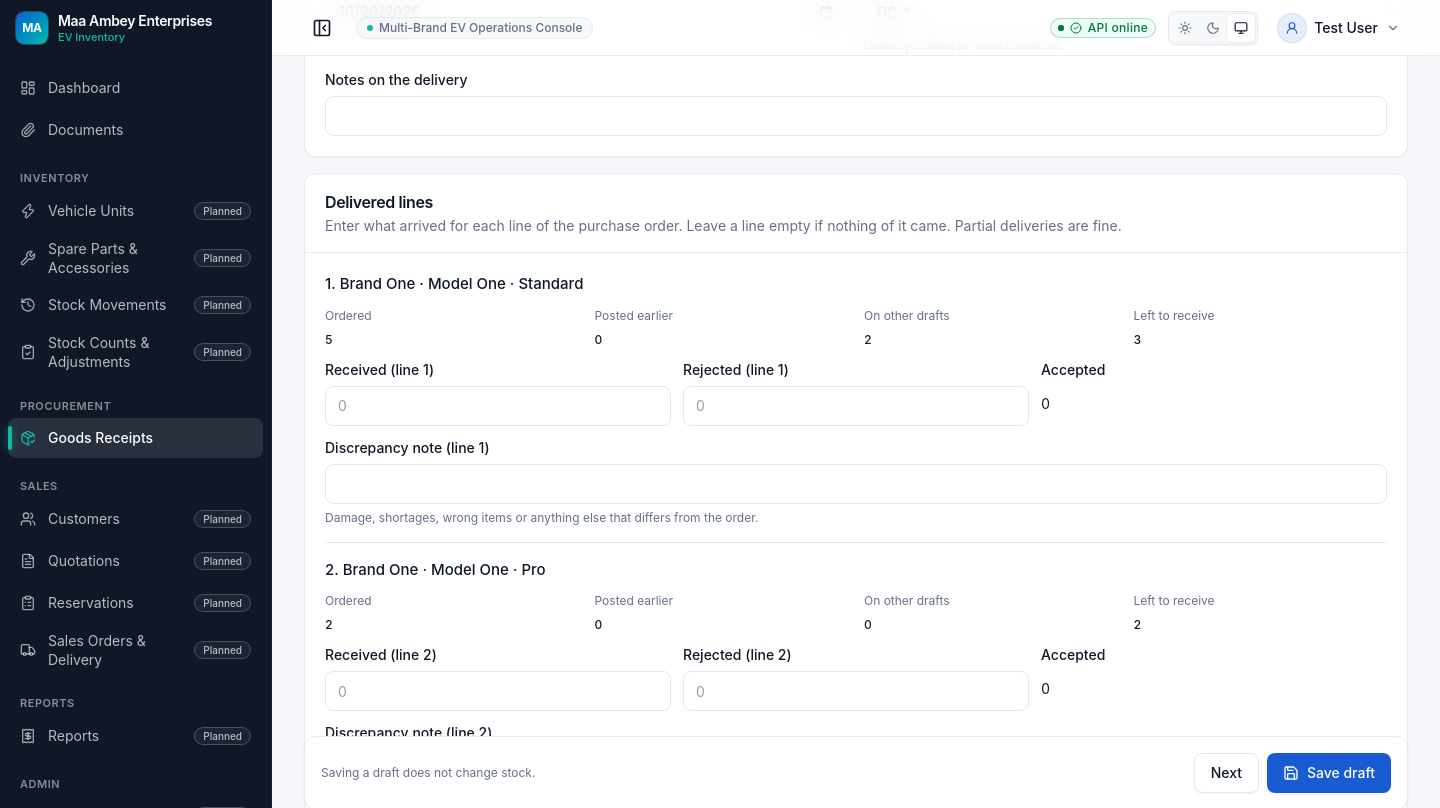
Test: goods receipt draft editor › warns about over-receipt and keeps entries when the server refuses it without an authorised override
The width and height of the screenshot is (1440, 808).
(page scrolled)
Type "4" into the field labelled "Received (line 1)" at (498, 406), box [325,386,671,426]
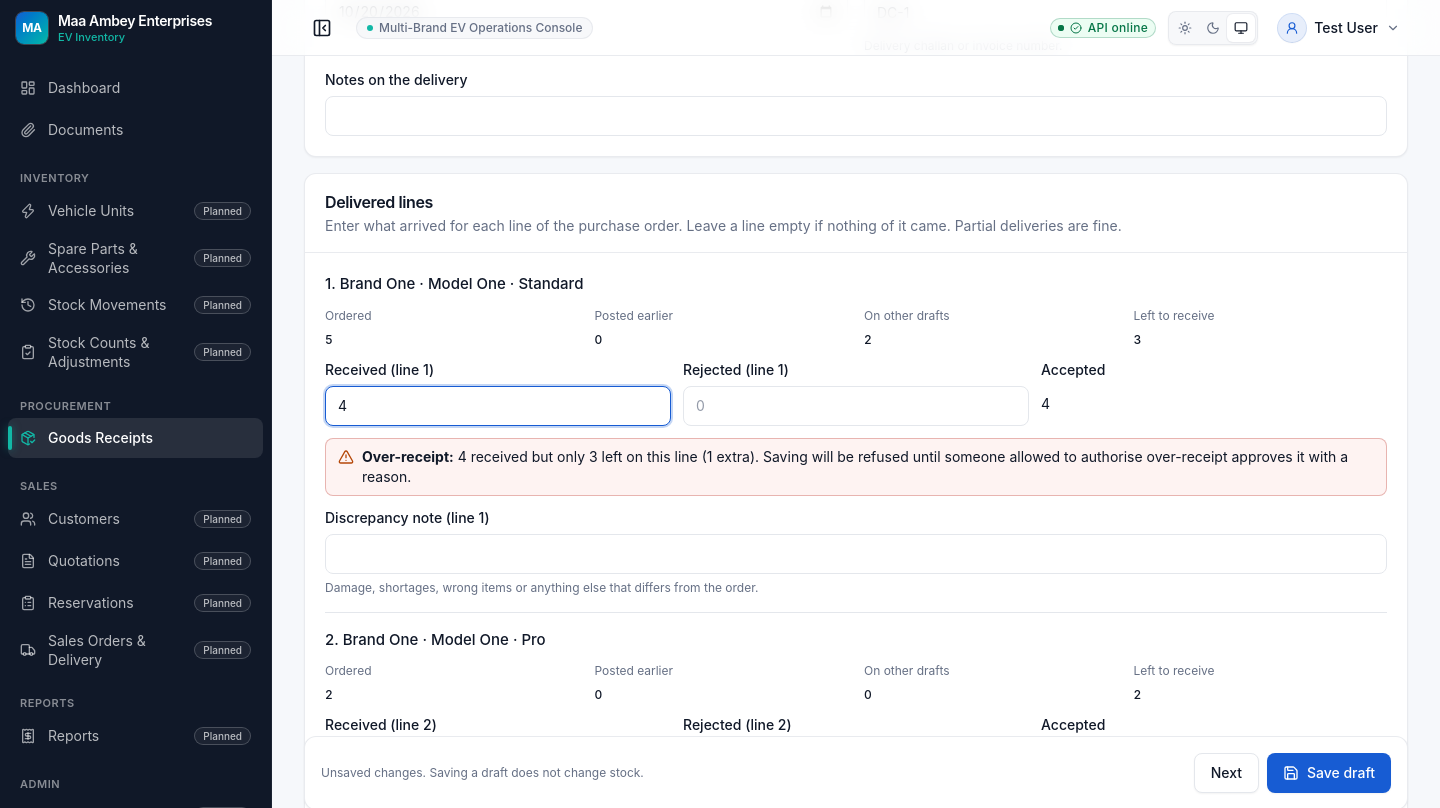
Expected: the text "Over-receipt:" is shown, [362,448,454,465]
Expected: the text "Saving will be refused until someone allowed" is shown, [362,448,1348,485]
Click the button "Save draft" at (1329, 773), box [1267,753,1391,793]
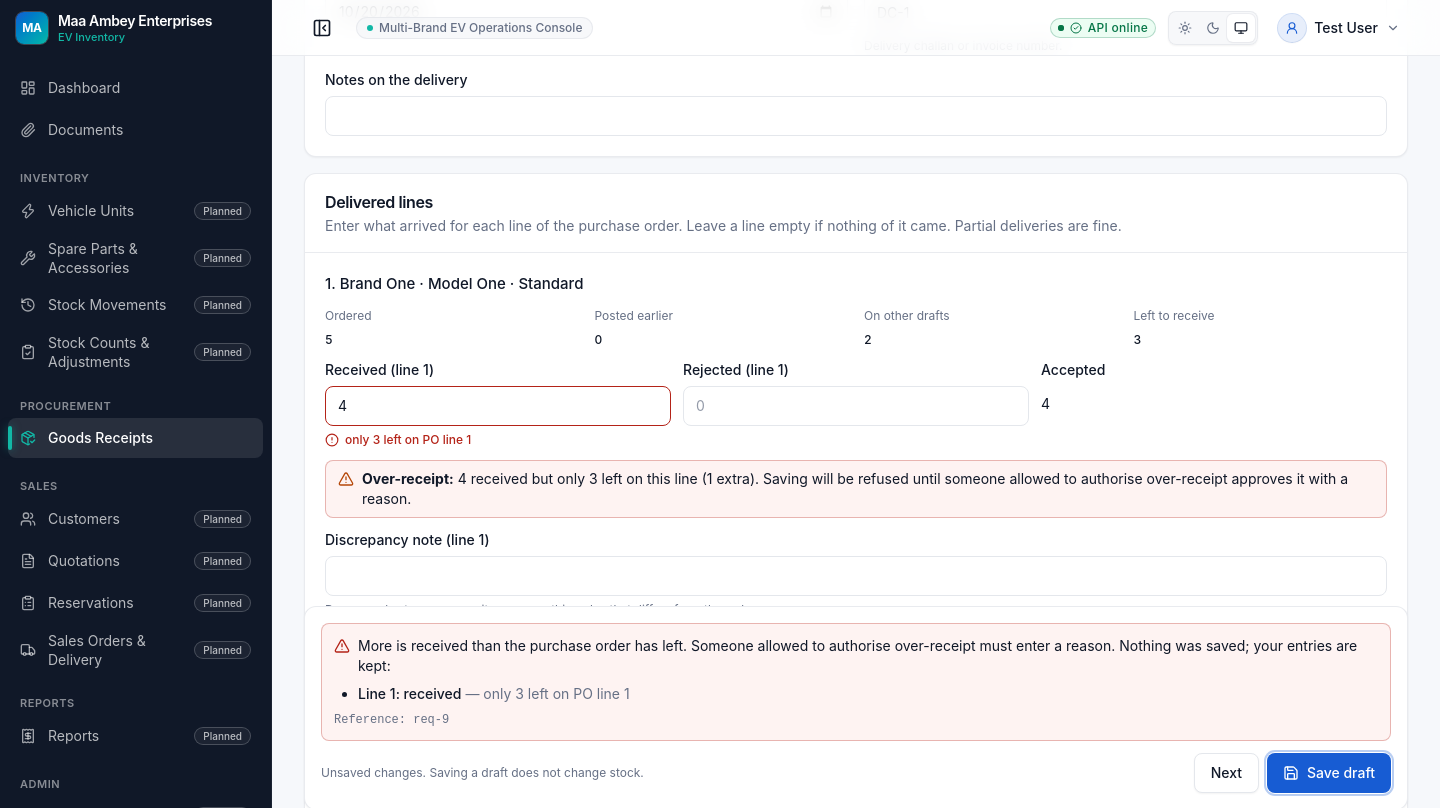
Expected: the text "More is received than the purchase order has left" shows "Line 1: received", [358,685,462,702]
Expected: the text "only 3 left on PO line 1" is shown, [345,432,471,448]
